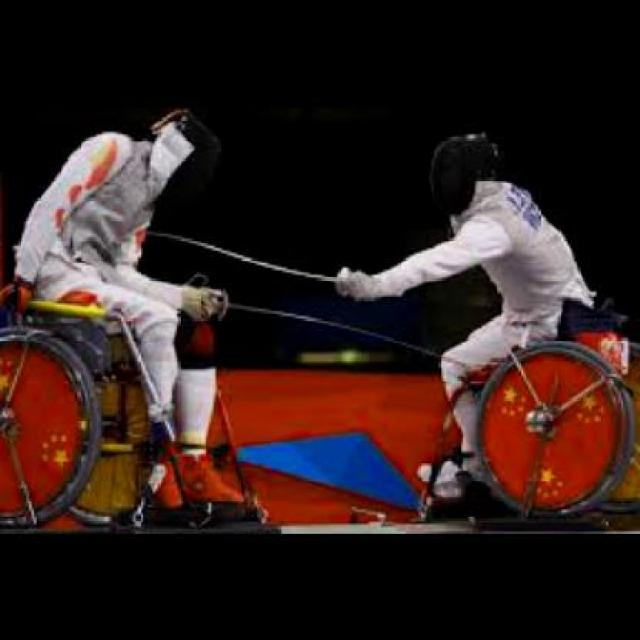wheelchairs: (0, 272, 277, 530), (412, 285, 636, 526)
